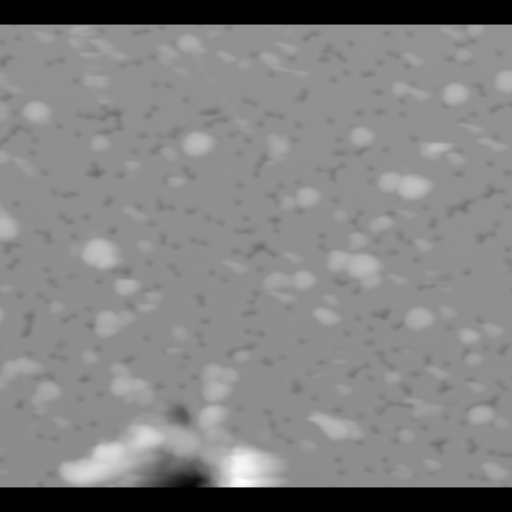Hole: (167, 199, 274, 256), (455, 179, 511, 262), (318, 38, 360, 94), (65, 100, 127, 134), (257, 107, 334, 129), (366, 52, 385, 125), (260, 406, 297, 442), (187, 289, 216, 332), (99, 190, 120, 233), (237, 308, 265, 337), (313, 160, 347, 183), (76, 158, 108, 182), (44, 183, 82, 203), (38, 264, 65, 292), (188, 101, 218, 125), (0, 126, 37, 145), (137, 97, 164, 121), (377, 25, 420, 40), (14, 304, 34, 335), (0, 242, 20, 273), (479, 159, 511, 177), (261, 354, 294, 371), (167, 404, 197, 422), (492, 367, 511, 395), (132, 24, 165, 39), (54, 207, 81, 225), (487, 95, 511, 115), (44, 336, 64, 359), (375, 395, 397, 415), (492, 340, 511, 363), (289, 85, 313, 103), (139, 128, 175, 140), (28, 470, 54, 486), (32, 224, 56, 241), (33, 430, 66, 442), (163, 260, 182, 280), (426, 435, 447, 453), (314, 228, 331, 250), (488, 441, 511, 457), (331, 454, 345, 479), (374, 350, 392, 369), (70, 384, 86, 405), (369, 306, 392, 319), (249, 153, 260, 179), (147, 79, 177, 88), (240, 93, 258, 106), (434, 382, 453, 394), (360, 462, 375, 477), (292, 378, 306, 394), (11, 395, 25, 410), (425, 214, 439, 229), (388, 245, 402, 260), (118, 60, 145, 67), (43, 54, 64, 63), (303, 28, 320, 39), (0, 50, 11, 66), (358, 334, 371, 347), (0, 435, 6, 463), (233, 180, 246, 192), (350, 105, 365, 114), (381, 141, 392, 152), (12, 31, 24, 40), (178, 379, 187, 391), (351, 311, 360, 322), (391, 344, 400, 355), (91, 276, 101, 285), (363, 164, 375, 171), (398, 109, 407, 118), (231, 147, 241, 155), (366, 325, 377, 331), (408, 133, 417, 140), (0, 36, 7, 44), (87, 418, 95, 425), (508, 283, 511, 296)
Particle: (324, 250, 386, 291), (375, 164, 442, 201), (103, 362, 156, 405), (191, 361, 236, 402), (271, 185, 329, 216), (79, 233, 122, 270), (262, 131, 302, 168), (91, 306, 131, 337), (260, 270, 319, 290), (177, 129, 216, 159), (382, 78, 428, 102), (28, 376, 66, 404), (394, 303, 433, 328), (21, 99, 56, 125), (438, 77, 468, 105), (441, 24, 489, 41), (342, 124, 375, 148), (0, 198, 19, 239), (470, 458, 507, 479), (118, 201, 149, 226), (0, 357, 42, 375), (306, 304, 340, 325), (179, 30, 208, 54), (147, 41, 178, 63), (465, 401, 496, 423), (391, 460, 418, 484), (407, 231, 437, 252), (478, 319, 507, 340), (363, 211, 393, 231), (345, 231, 372, 253), (167, 321, 191, 343), (70, 347, 99, 365), (420, 359, 447, 378), (455, 324, 479, 345), (87, 133, 113, 152), (223, 256, 248, 275), (43, 296, 69, 314), (213, 47, 237, 65), (402, 48, 424, 67), (438, 303, 461, 321), (494, 67, 511, 91), (451, 46, 472, 65), (461, 380, 483, 397), (157, 145, 179, 162), (416, 455, 438, 471), (231, 348, 253, 364), (381, 270, 406, 284), (281, 246, 303, 261), (0, 96, 13, 121), (31, 29, 54, 43), (395, 427, 415, 443), (487, 416, 511, 429), (461, 351, 480, 366), (392, 207, 417, 218), (136, 236, 153, 251), (333, 382, 353, 394), (329, 207, 346, 220), (65, 241, 78, 258), (320, 291, 337, 303), (0, 145, 9, 165), (234, 58, 251, 67), (0, 302, 5, 328), (0, 375, 5, 393)
Smear: (64, 426, 279, 486), (61, 27, 128, 61), (301, 409, 366, 440), (262, 52, 312, 79), (398, 397, 446, 420), (415, 137, 455, 162), (421, 265, 455, 293), (76, 69, 114, 91), (75, 48, 107, 72), (474, 132, 511, 152), (9, 155, 42, 177), (0, 65, 22, 95), (108, 275, 140, 295), (226, 112, 253, 133), (117, 156, 140, 180), (272, 36, 301, 54), (260, 290, 295, 304), (131, 299, 162, 314), (455, 119, 486, 133), (139, 287, 164, 303), (29, 401, 50, 416), (90, 93, 117, 103), (163, 344, 189, 354), (164, 175, 187, 186), (329, 355, 351, 366), (169, 66, 188, 76), (0, 466, 13, 480), (304, 370, 325, 378), (384, 371, 399, 382), (0, 282, 13, 293), (505, 42, 511, 61), (507, 262, 511, 271)
